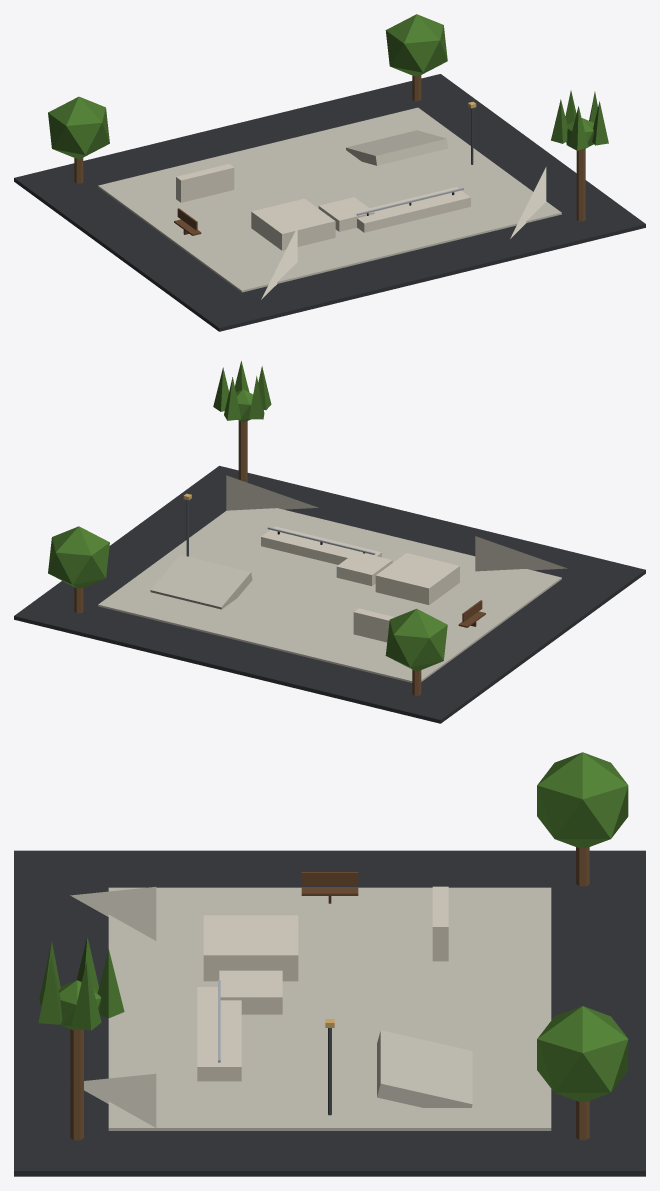
File: landscape.park-skate.glb
The picture shows the model from 3 angles, top to bottom: view 1: azimuth 30°, elevation 25°; view 2: azimuth 150°, elevation 25°; view 3: azimuth 270°, elevation 25°; orthographic projection. The views are drawn at different scales.
Visible parts, largest first — view 1: landscape.park-skate; view 2: landscape.park-skate; view 3: landscape.park-skate.
Part boxes in pixels (box(x1,y1,x2,y2)): landscape.park-skate: box(14, 14, 645, 331); landscape.park-skate: box(14, 361, 645, 723); landscape.park-skate: box(14, 752, 645, 1176).
Bounding box in the file's own units: 24 × 6.86 × 20.
